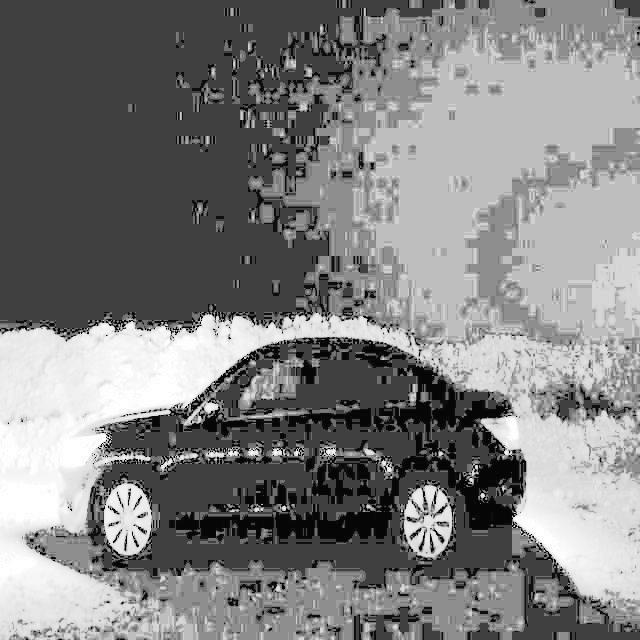Car: (48, 334, 550, 572)
